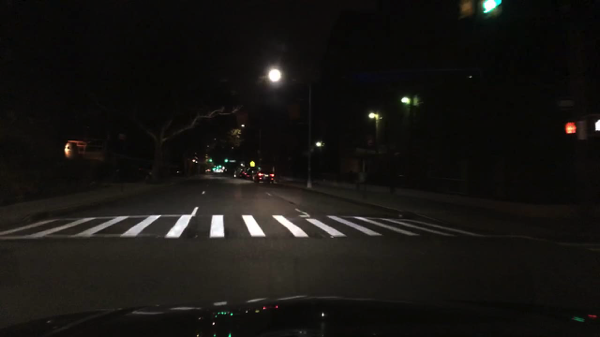car: (254, 172, 275, 187), (242, 168, 254, 181), (235, 167, 242, 179)
traffic light: (478, 1, 506, 18), (454, 1, 475, 22), (563, 121, 576, 138), (590, 116, 599, 135), (208, 157, 212, 163), (223, 157, 227, 163)
traffic sign: (555, 96, 580, 109), (250, 160, 256, 169), (228, 158, 236, 163)
